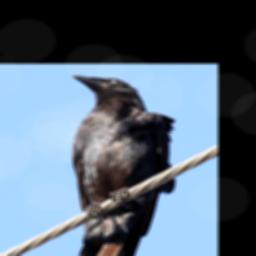Crow: (68, 72, 176, 256)
